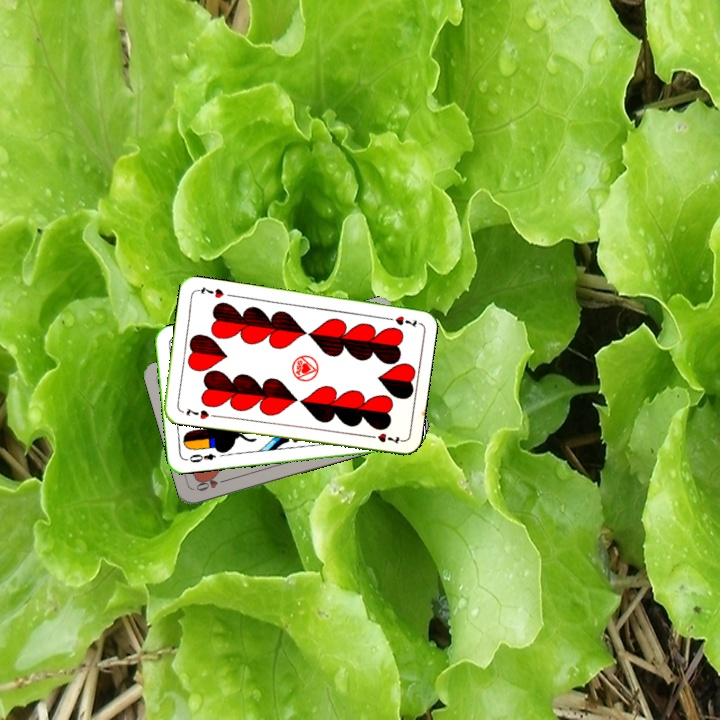EO: (185, 450, 218, 465)
H7: (381, 312, 419, 330), (182, 404, 211, 422)
HO: (192, 474, 231, 494)
